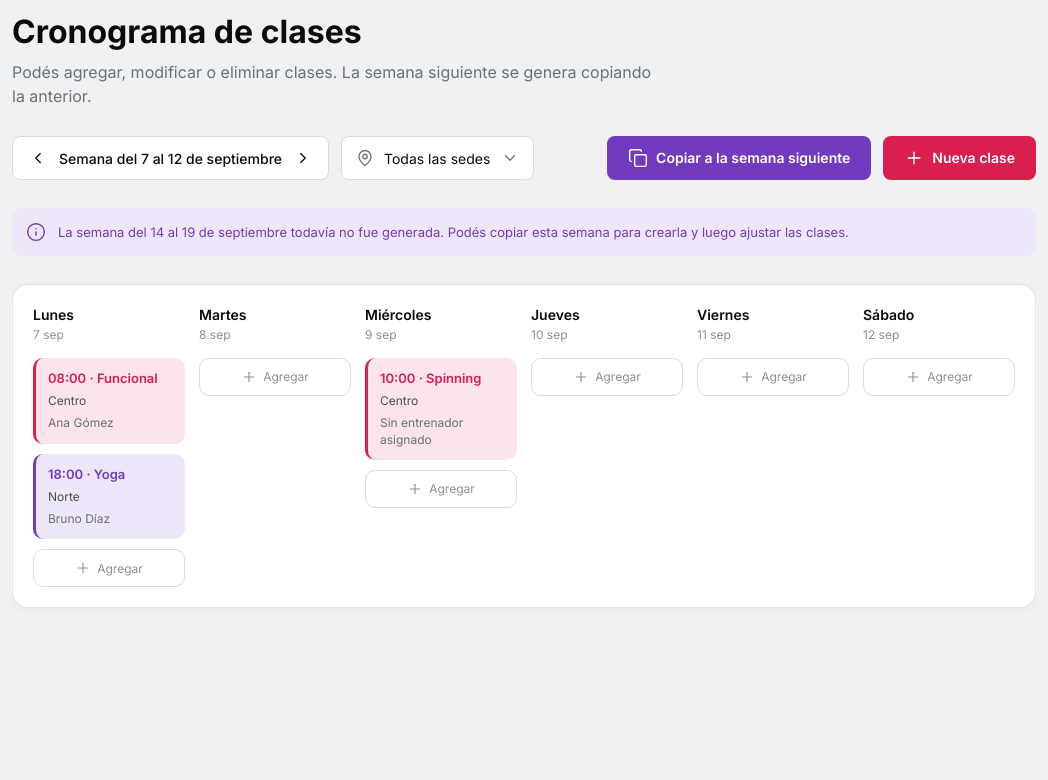
cronograma semanal › copia la semana a la siguiente cuando todavía no fue generada
Expected: the element that starts with "semana del 14 al 19 de septiembre" shows "La semana del 14 al 19 de septiembre todavía no fue generada.", [12,208,1036,256]
What coordinates should you click on to do the following:
click the button "Copiar a la semana siguiente"
I would click on:
 (739, 158)
Its box is [607,136,871,180].
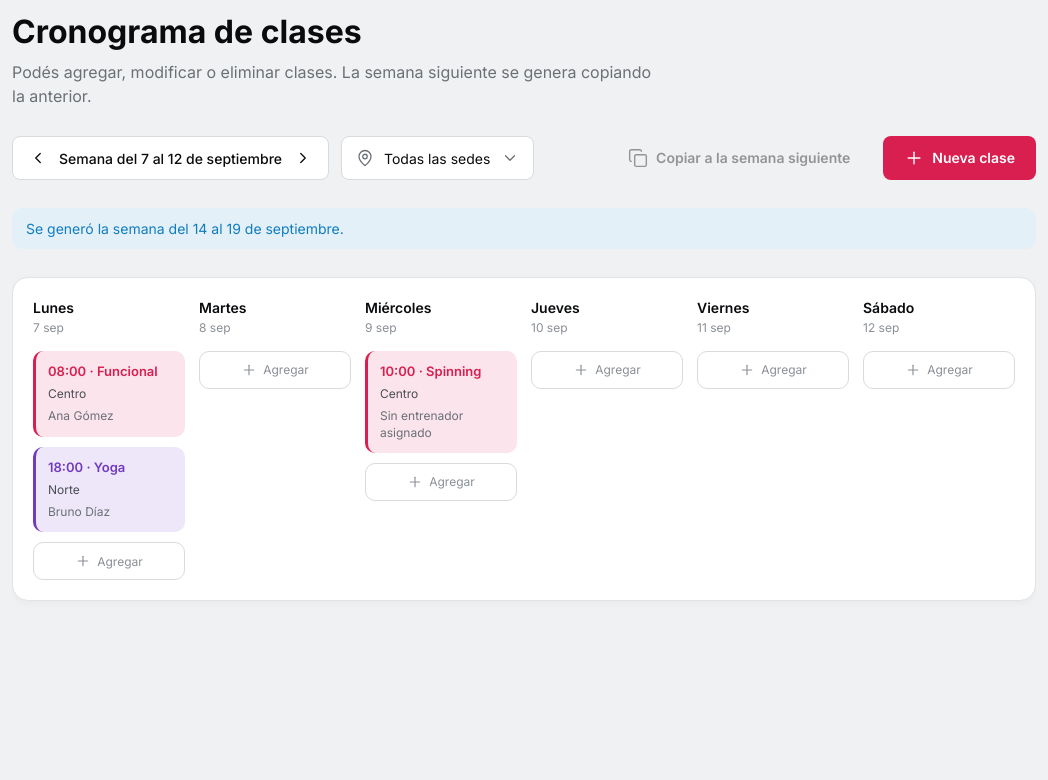
Result: the text "Se generó la semana del 14 al 19 de septiembre." is shown at [12,208,1036,249]
Result: the button "Copiar a la semana siguiente" is disabled at [607,136,871,180]
